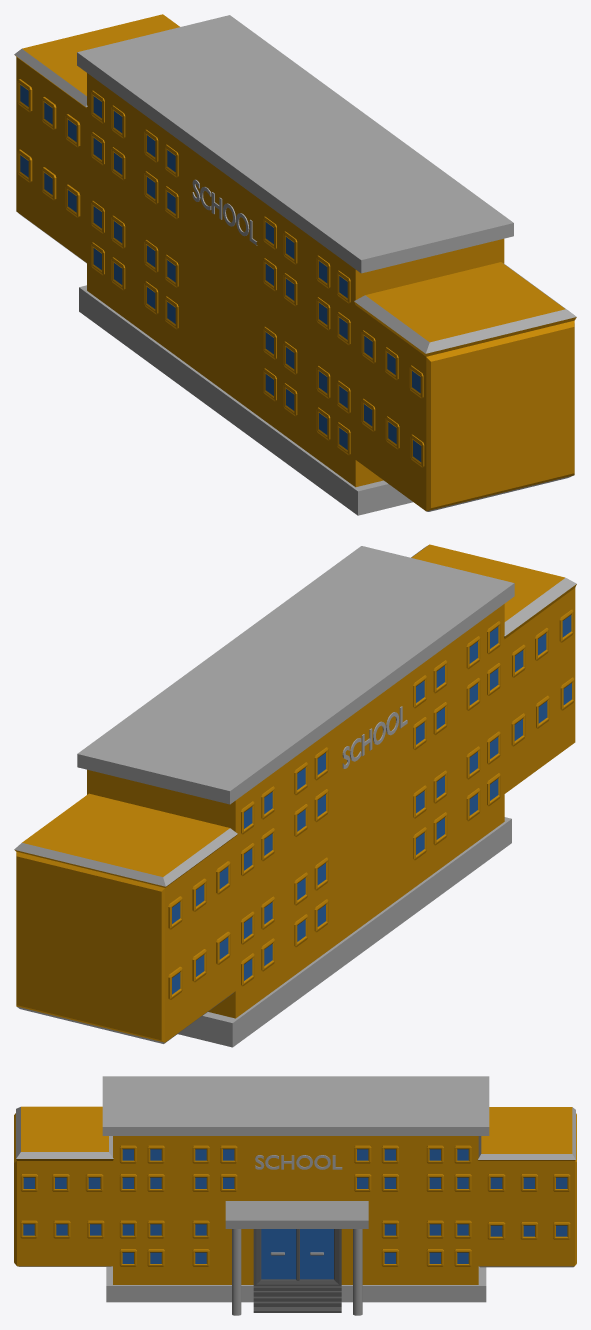
File: SCHOOL_COLOR.glb
The picture shows the model from 3 angles, top to bottom: view 1: azimuth 30°, elevation 25°; view 2: azimuth 150°, elevation 25°; view 3: azimuth 270°, elevation 25°; orthographic projection. The views are drawn at different scales.
Visible parts, largest first — view 1: SCHOOL_COLOR_0; view 2: SCHOOL_COLOR_0; view 3: SCHOOL_COLOR_0.
Boxes of the visible parts, <box> form: SCHOOL_COLOR_0: <box>14,14,576,515</box>; SCHOOL_COLOR_0: <box>14,544,576,1047</box>; SCHOOL_COLOR_0: <box>14,1076,576,1315</box>.
Size of the model in its own units: 2.36 by 2.72 by 7.92.
Materials: 1 (1 with a texture image).
